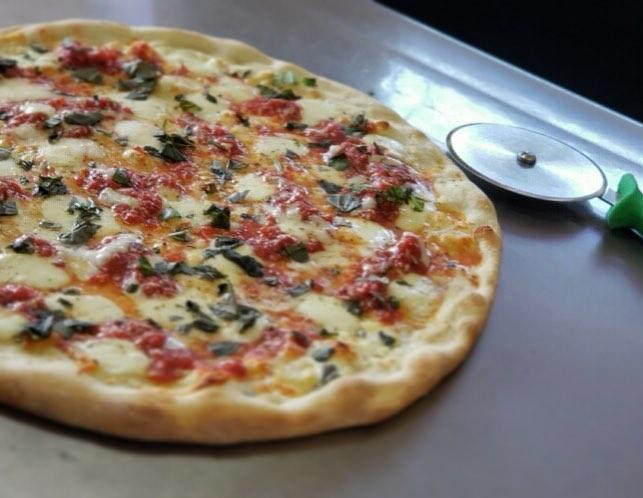Basil: (189, 299, 256, 337), (143, 254, 219, 285), (42, 106, 101, 136), (219, 236, 264, 275), (66, 197, 99, 244), (31, 311, 89, 337), (121, 58, 156, 100), (159, 126, 196, 163), (324, 179, 356, 213), (386, 183, 425, 210), (258, 81, 304, 102), (36, 174, 69, 198)
Pizza: (2, 25, 492, 447)
